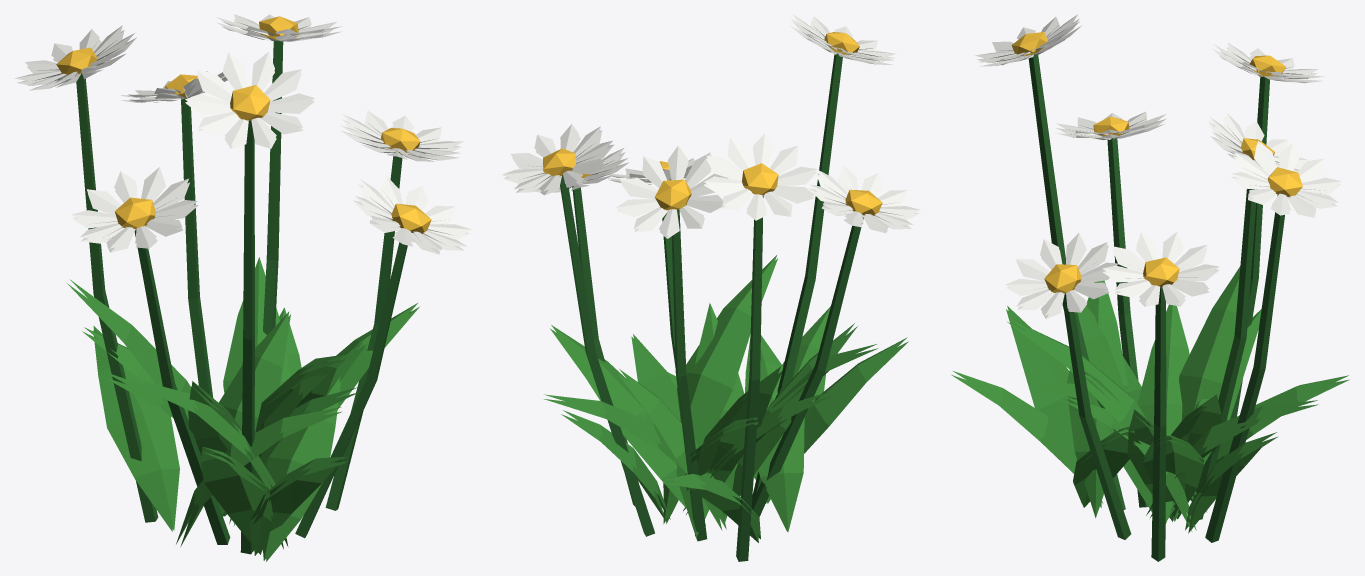
The model's file is Prop_FlowersWhite.fbx.
3 views of the same model, side by side, from view 1: azimuth 30°, elevation 25°; view 2: azimuth 150°, elevation 25°; view 3: azimuth 270°, elevation 25° (orthographic). The views are drawn at different scales.
Visible parts, largest first — view 1: Prop_FlowersWhite; view 2: Prop_FlowersWhite; view 3: Prop_FlowersWhite.
Part boxes in pixels (left/top/right/bottom): Prop_FlowersWhite: left=14, top=14, right=472, bottom=561; Prop_FlowersWhite: left=502, top=14, right=920, bottom=561; Prop_FlowersWhite: left=951, top=14, right=1349, bottom=561.
Bounding box in the file's own units: 0.2709 × 0.3388 × 0.2591.
